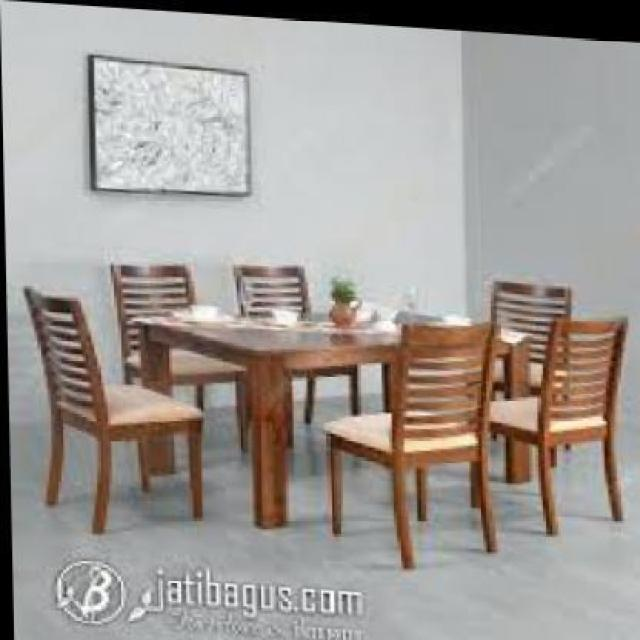tables: (129, 311, 531, 529)
